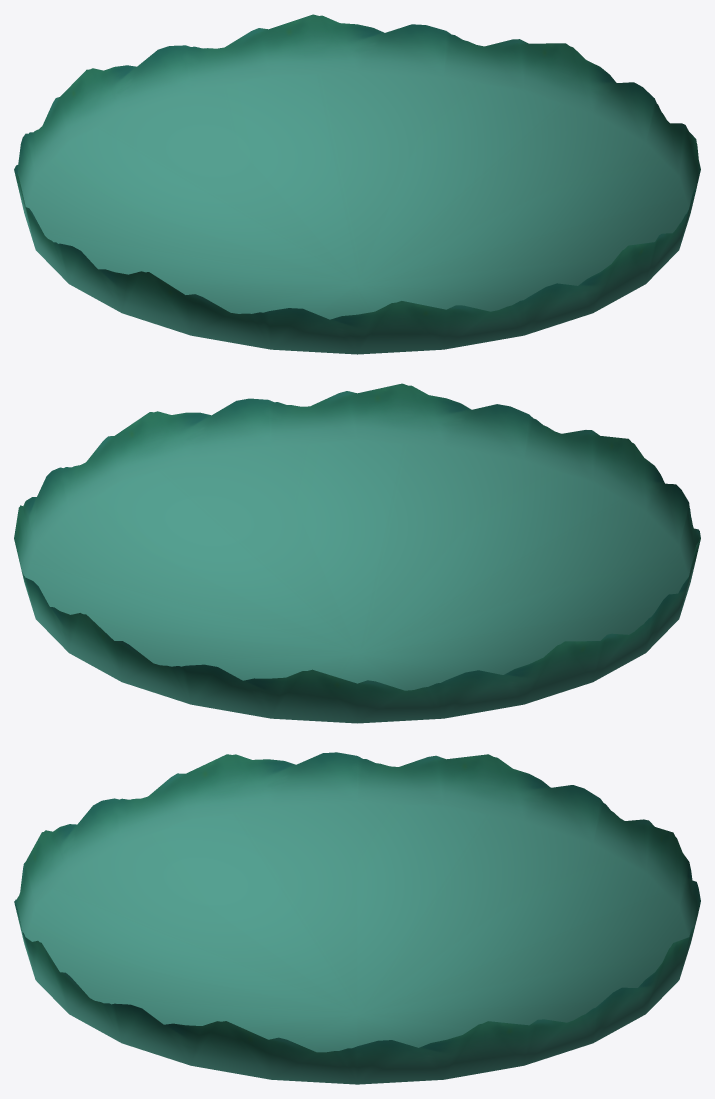
File: SK_DistantView_001.FBX
3 views of the same model, one above another, from view 1: azimuth 30°, elevation 25°; view 2: azimuth 150°, elevation 25°; view 3: azimuth 270°, elevation 25° (orthographic).
Parts seen in each view (by area): view 1: SK_DistantView_001; view 2: SK_DistantView_001; view 3: SK_DistantView_001.
Boxes of the visible parts, <box> form: SK_DistantView_001: <box>14,14,700,354</box>; SK_DistantView_001: <box>14,383,700,723</box>; SK_DistantView_001: <box>14,752,700,1084</box>.
Size of the model in its own units: 17280 by 3516 by 17280.
Materials: 1 (1 with a texture image).
